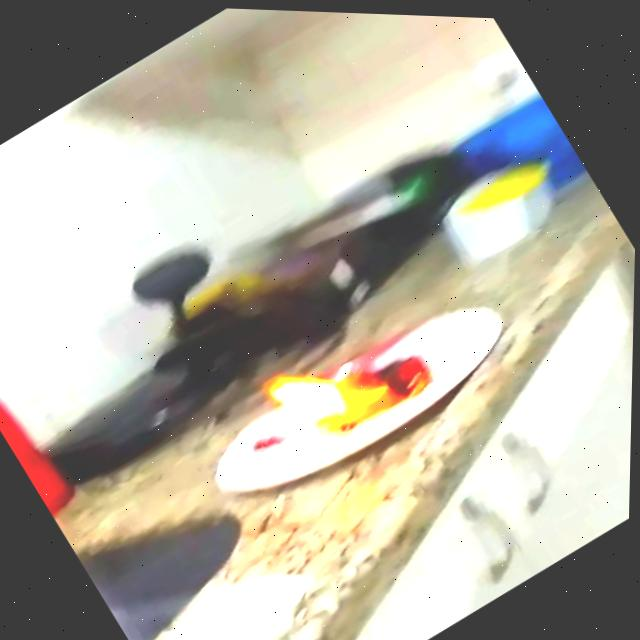Fire: (255, 295, 446, 471)
